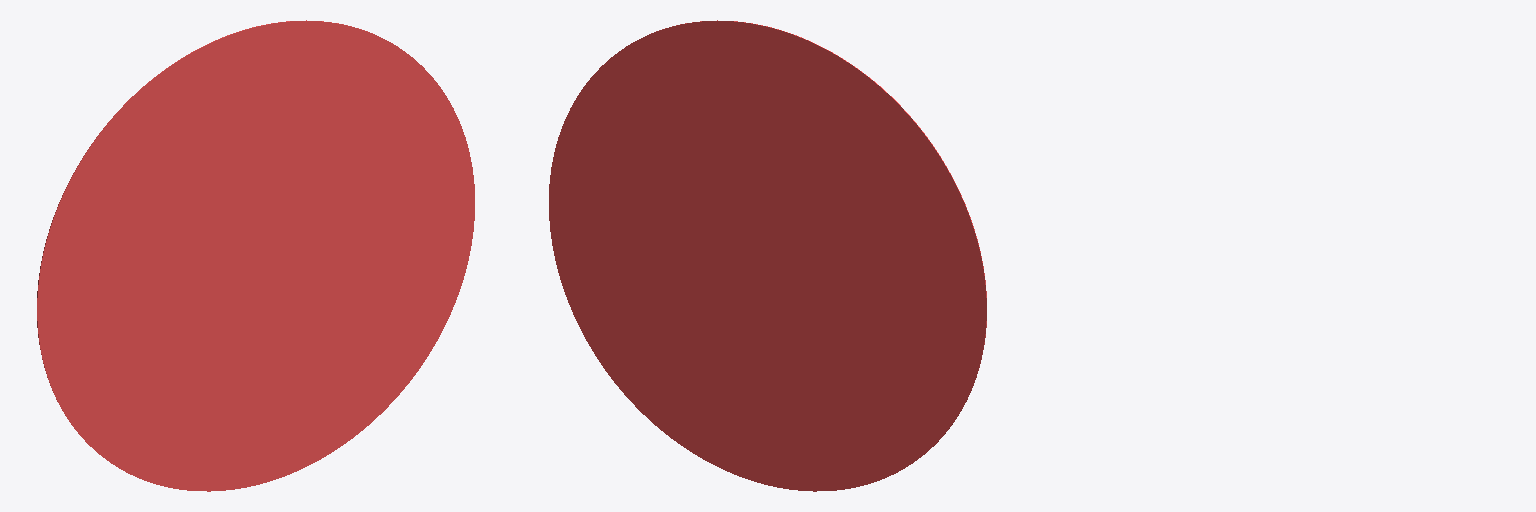
robot.urdf — cube.urdf:
<?xml version="1.0" ?>
<robot name="cube.urdf">
  <link name="baseLink">
    <contact>
      <lateral_friction value="0.5"/>
      <rolling_friction value="0.0"/>
      <contact_cfm value="0.0"/>
      <contact_erp value="1.0"/>
    </contact>
    <inertial>
      <origin rpy="0 0 0" xyz="0.07 0.05 0.03"/>
       <mass value=".1"/>
       <inertia ixx="1" ixy="0" ixz="0" iyy="1" iyz="0" izz="1"/>
    </inertial>
    <visual>
      <origin rpy="0 0 0" xyz="0 0 0"/>
      <geometry>
        <mesh filename="net.obj" scale=".1 .1 .1"/>
      </geometry>
       <material name="red">
        <color rgba="1 0.4 0.4 1"/>
      </material>
    </visual>
    <collision>
      <origin rpy="0 0 0" xyz="0 0 0"/>
      <geometry>
	 	<mesh filename="net.obj" scale=".1 .1 .1"/>
      </geometry>
    </collision>
  </link>
</robot>

--- Facts derived from the render (not from the file) ---
Views: 3 orthographic renders of the robot side by side, from view 1: azimuth 30°, elevation 25°; view 2: azimuth 150°, elevation 25°; view 3: azimuth 270°, elevation 25°.
Robot: cube.urdf — 1 links, 0 joints (none); root link baseLink; default pose: every joint at zero.
Links seen in each view (by area): view 1: baseLink; view 2: baseLink; view 3: none.
Boxes of the visible links, <box> form: baseLink: <box>37,20,474,491</box>; baseLink: <box>549,20,986,491</box>.
Bounding box of the posed robot: 183 × 0.3 × 183 m (x, y, z).
1 mesh visuals loaded from 1 distinct referenced files (1 OBJ).